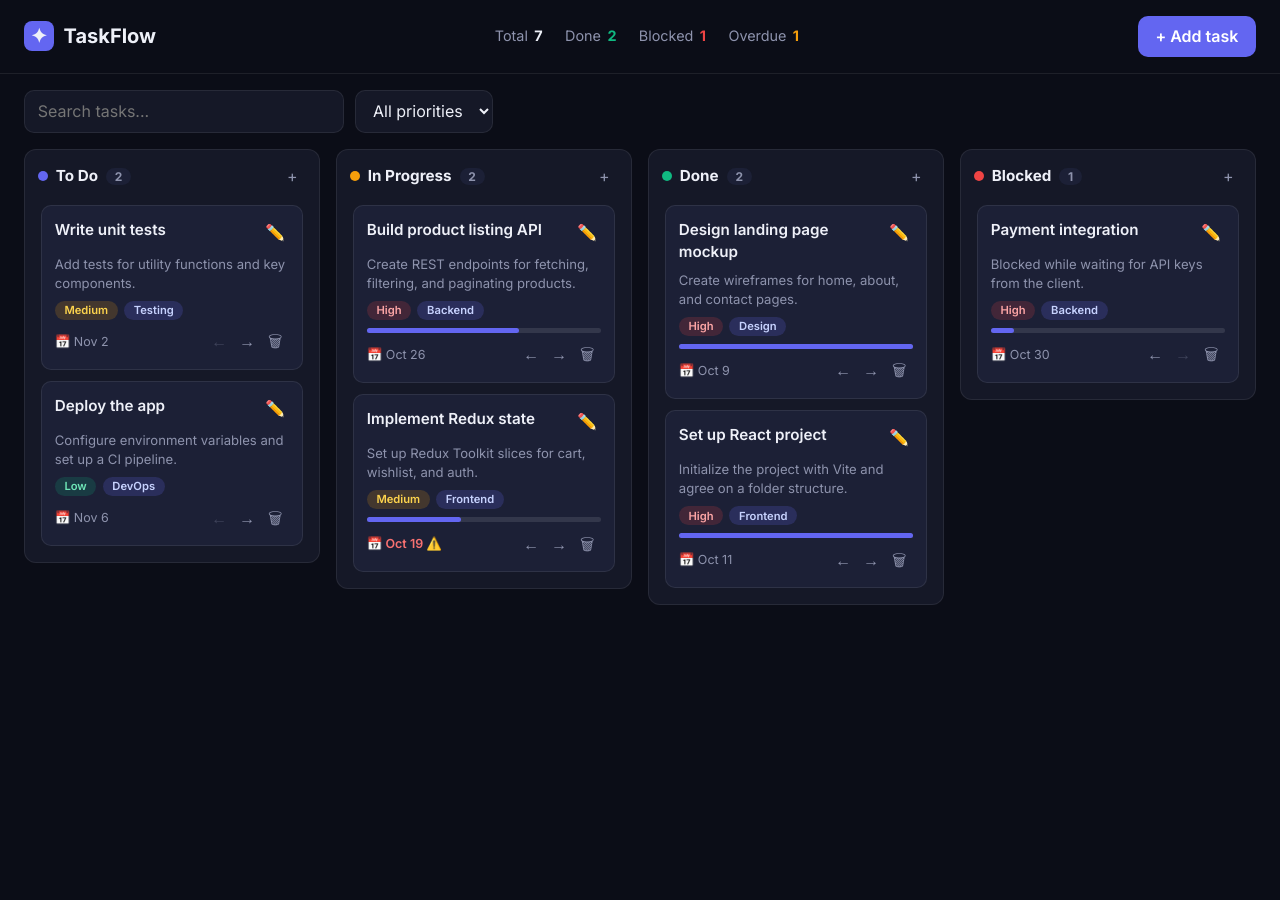
TaskFlow board › edits an existing task
Click the button named "Edit Write unit tests". click: (275, 232)
box: [261, 218, 289, 246]
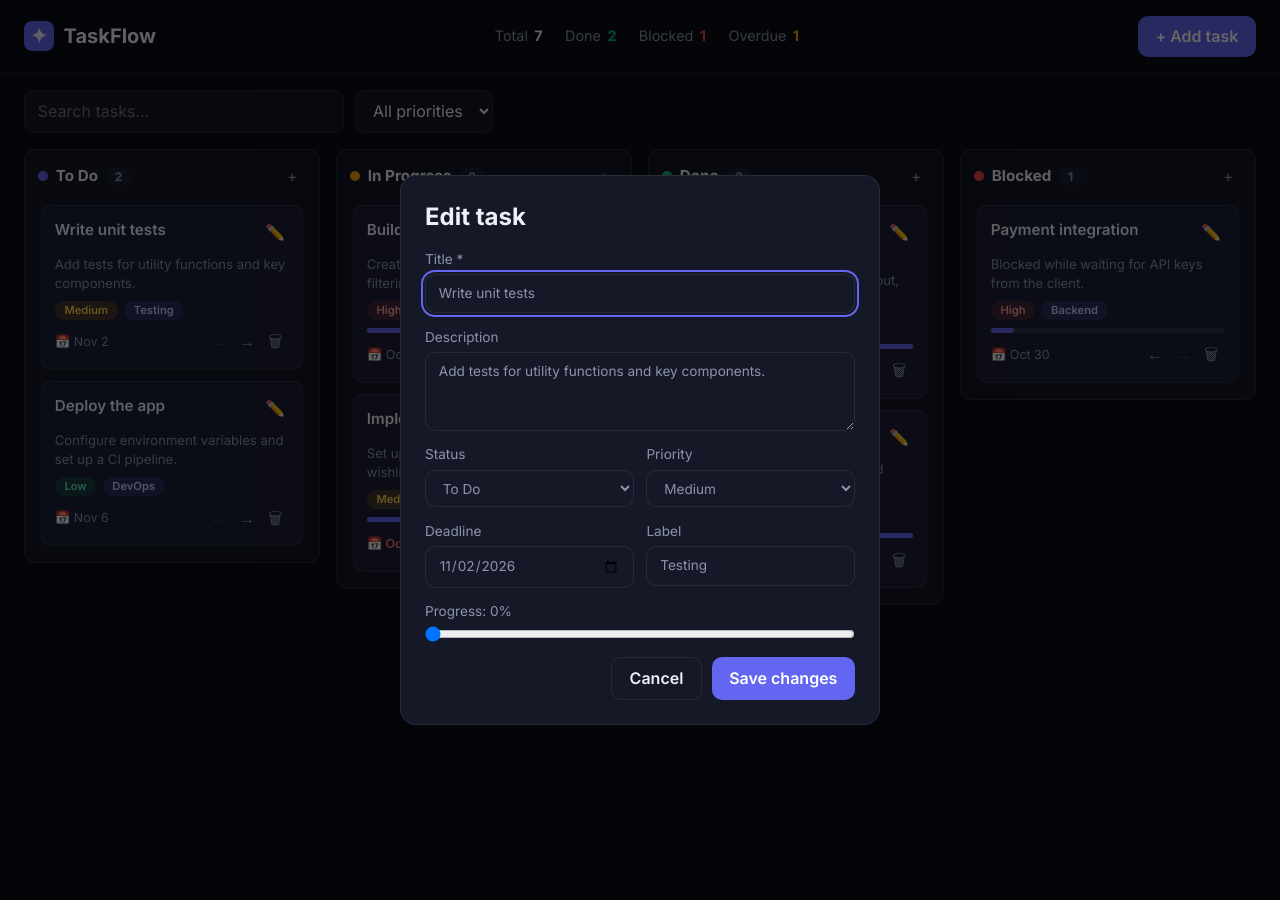
Replace the text in the field labelled "Title *" with "Write more tests". click: (640, 294)
box: [425, 274, 855, 313]
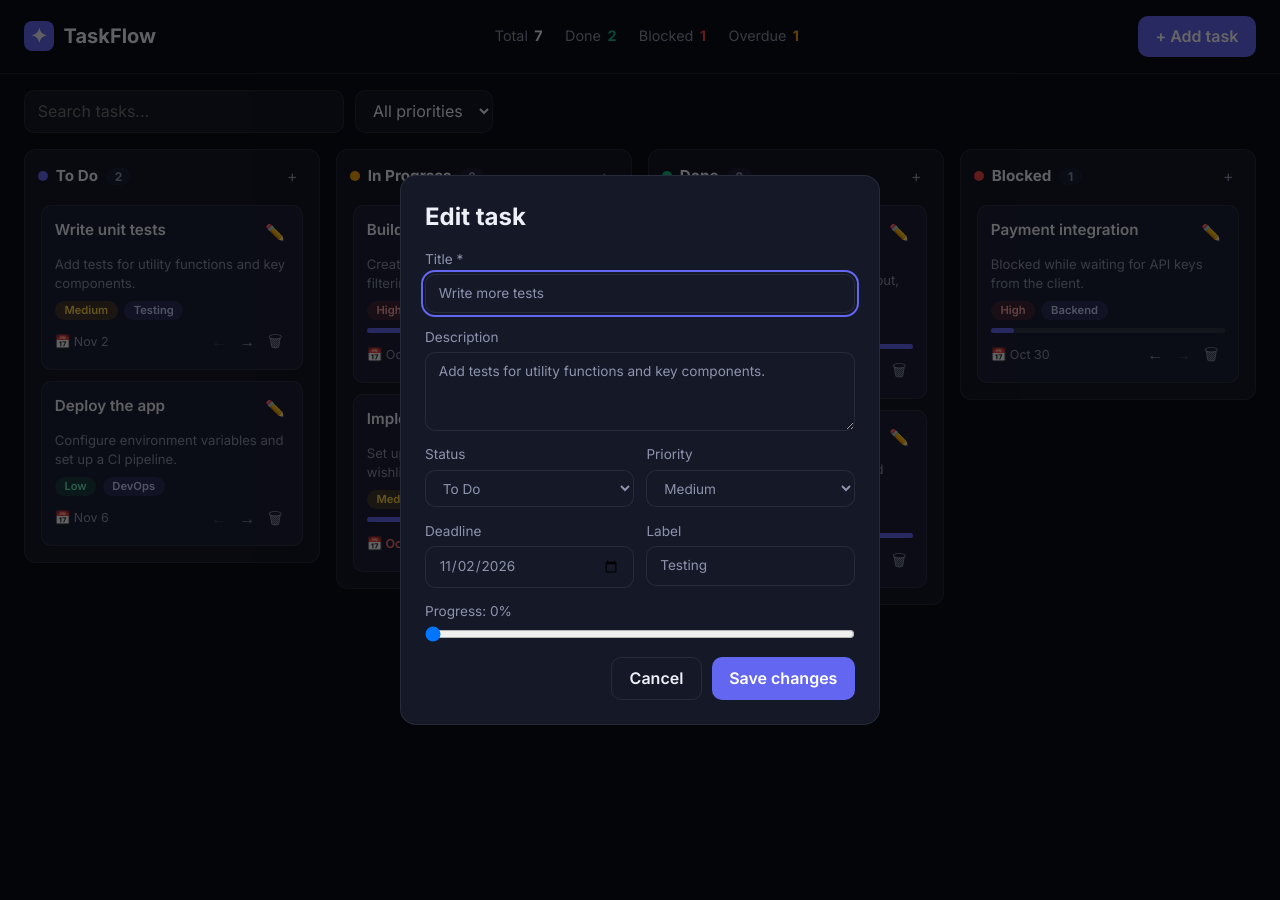
Click the button "Save changes". click: (783, 678)
box: [712, 657, 855, 700]
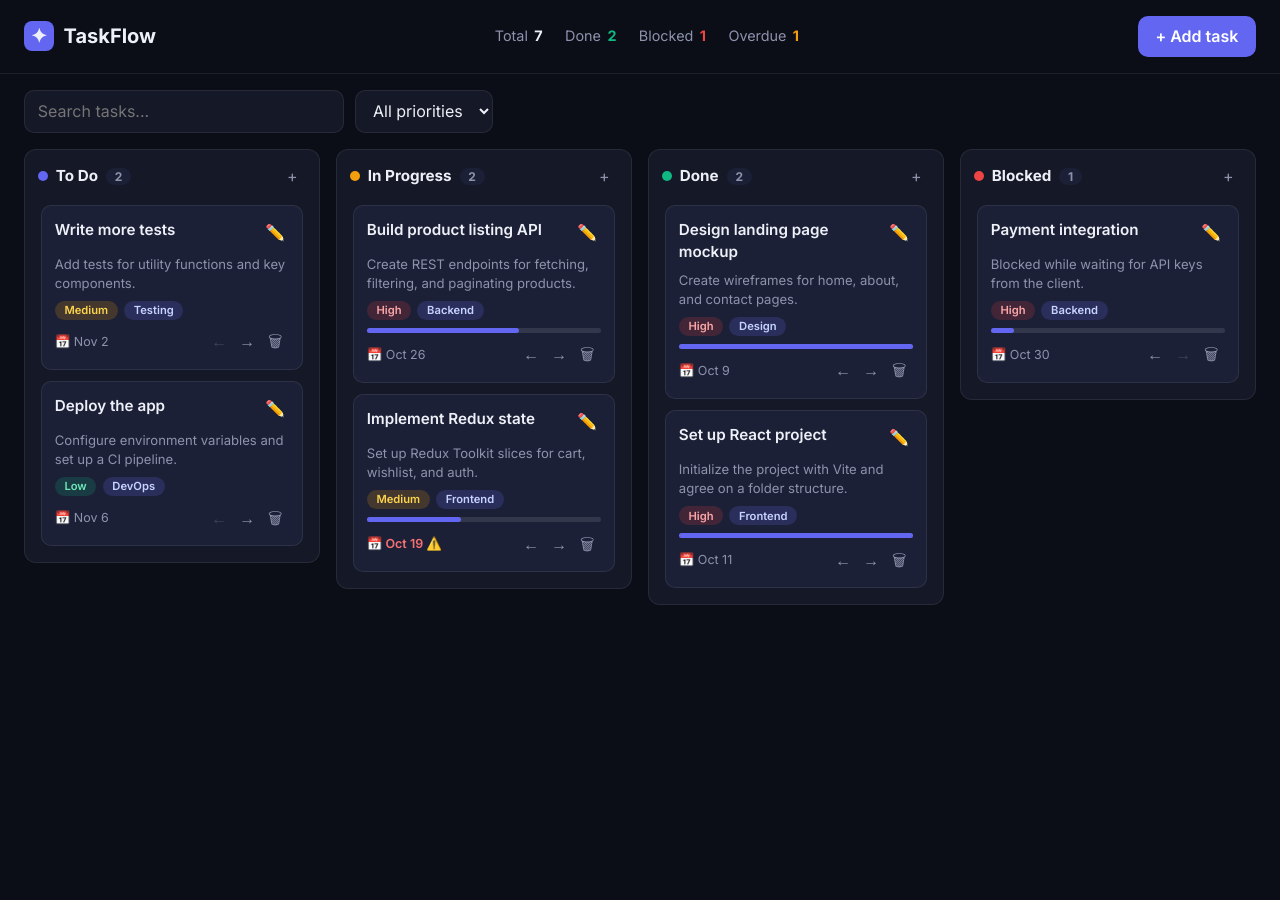
Expected: the heading "Write more tests" is shown, [55, 218, 175, 240]
Expected: the heading "Write unit tests" is gone
